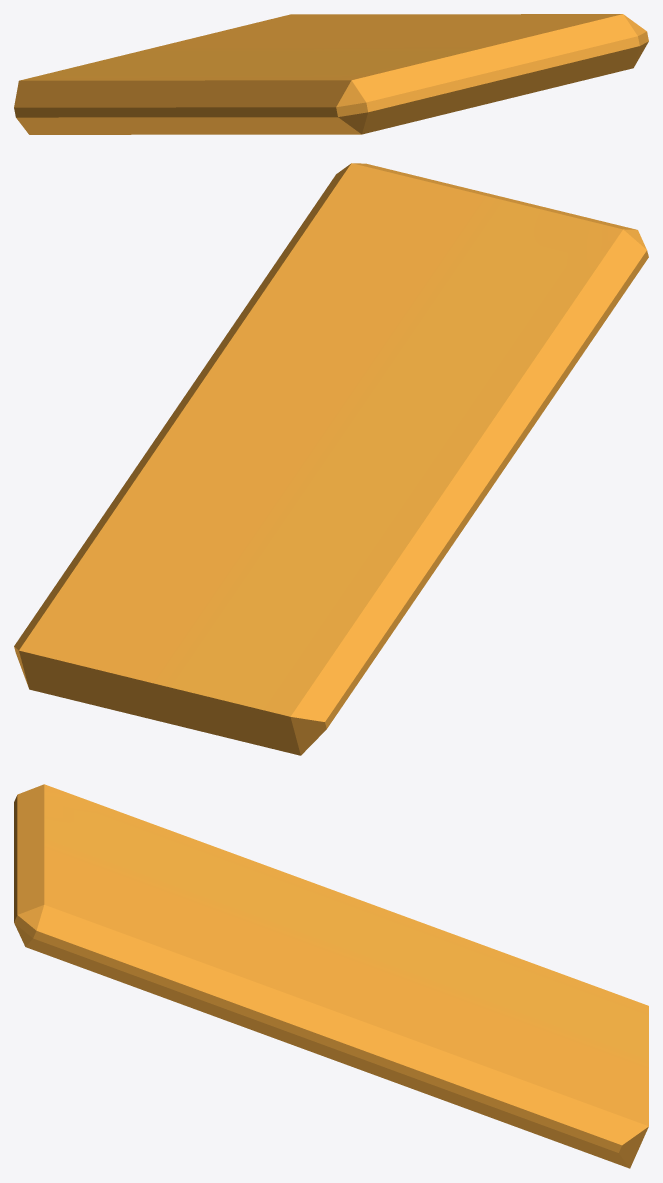
Rendered from Perry_Tail.obj.
3 views of the same model, one above another, from view 1: azimuth 30°, elevation 25°; view 2: azimuth 150°, elevation 25°; view 3: azimuth 270°, elevation 25° (orthographic). The views are drawn at different scales.
Visible parts, largest first — view 1: Cola; view 2: Cola; view 3: Cola.
Boxes of the visible parts, x1=… form: Cola: x1=14, y1=14, x2=648, y2=134; Cola: x1=14, y1=163, x2=648, y2=755; Cola: x1=14, y1=784, x2=648, y2=1168.
Size of the model in its own units: 0.5547 by 0.4952 by 1.08.
